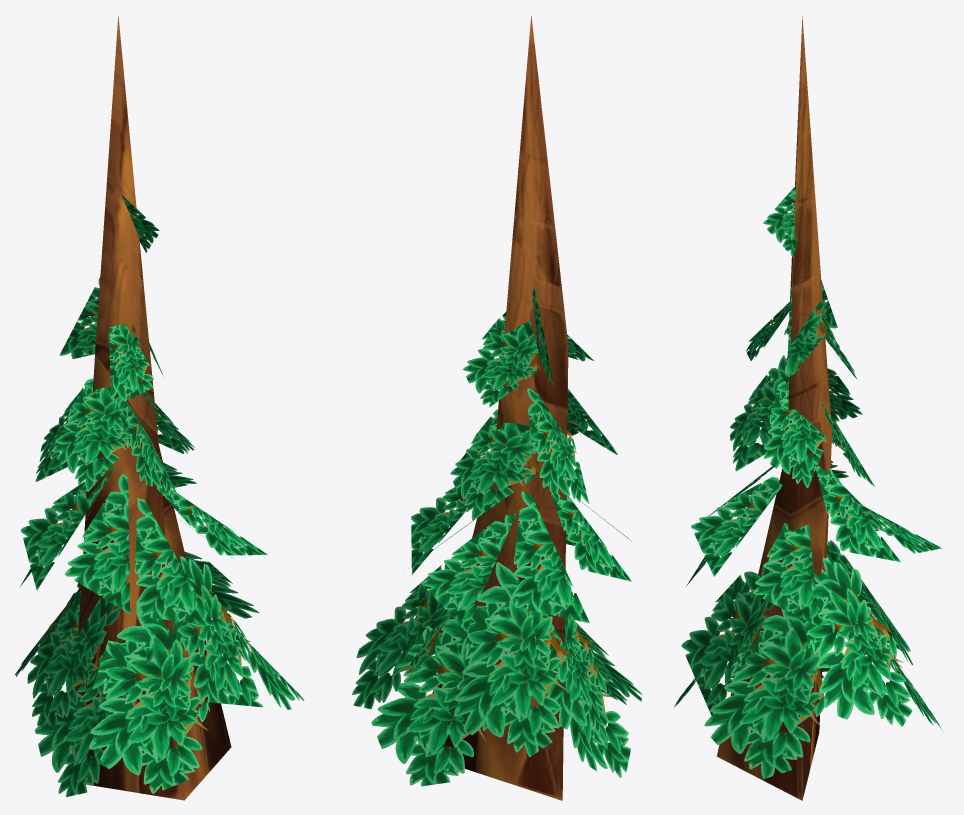
The model's file is 7_Verde_Oscuro_LOD_2.fbx.
The picture shows the model from 3 angles, left to right: view 1: azimuth 30°, elevation 25°; view 2: azimuth 150°, elevation 25°; view 3: azimuth 270°, elevation 25°; orthographic projection. The views are drawn at different scales.
Visible parts, largest first — view 1: 7_Verde_Oscuro_LOD_2; view 2: 7_Verde_Oscuro_LOD_2; view 3: 7_Verde_Oscuro_LOD_2.
Part boxes in pixels (bbox=[...]): 7_Verde_Oscuro_LOD_2: bbox=[15, 15, 304, 800]; 7_Verde_Oscuro_LOD_2: bbox=[352, 16, 642, 800]; 7_Verde_Oscuro_LOD_2: bbox=[674, 15, 943, 800].
Bounding box in the file's own units: 381 × 1076 × 369.
